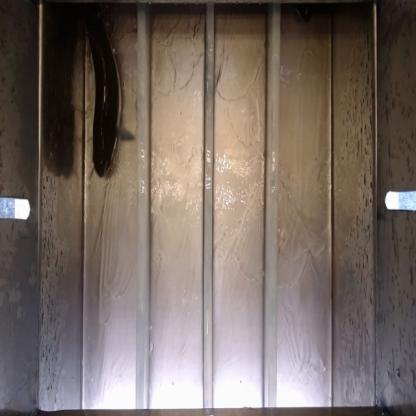pezw: (88, 66, 134, 178)
